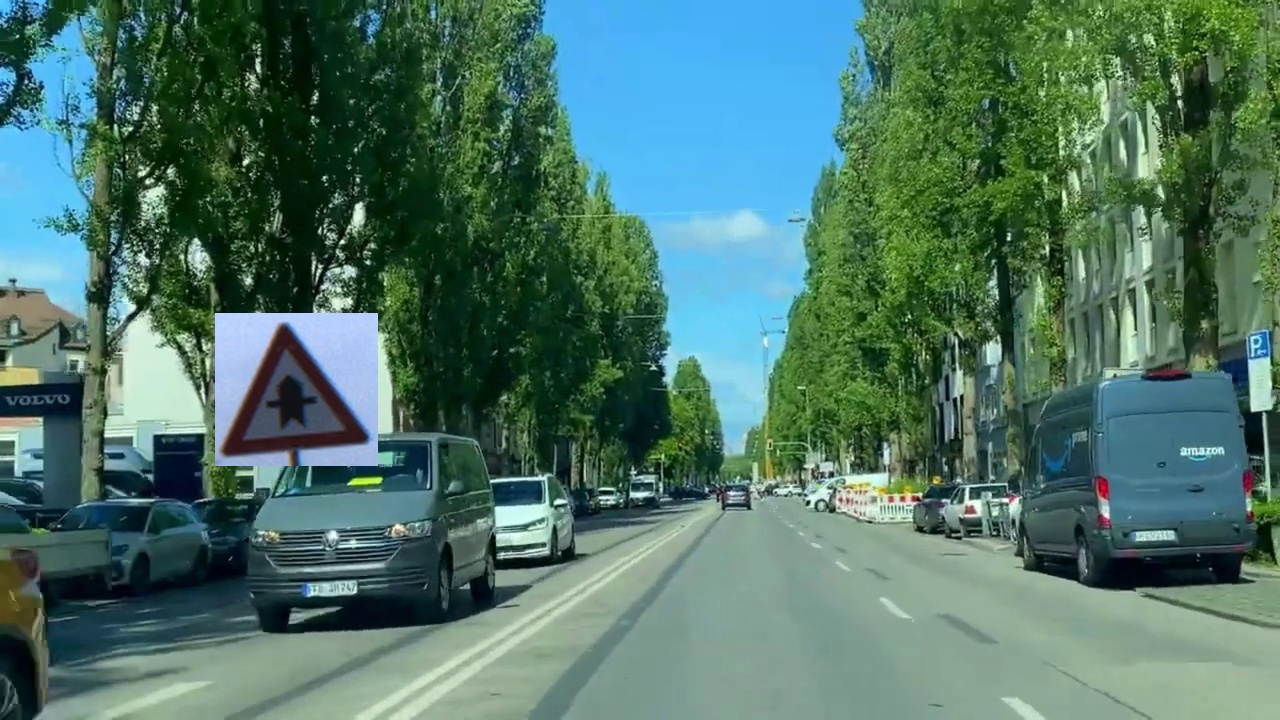Right-of-way: (215, 313, 378, 466)
